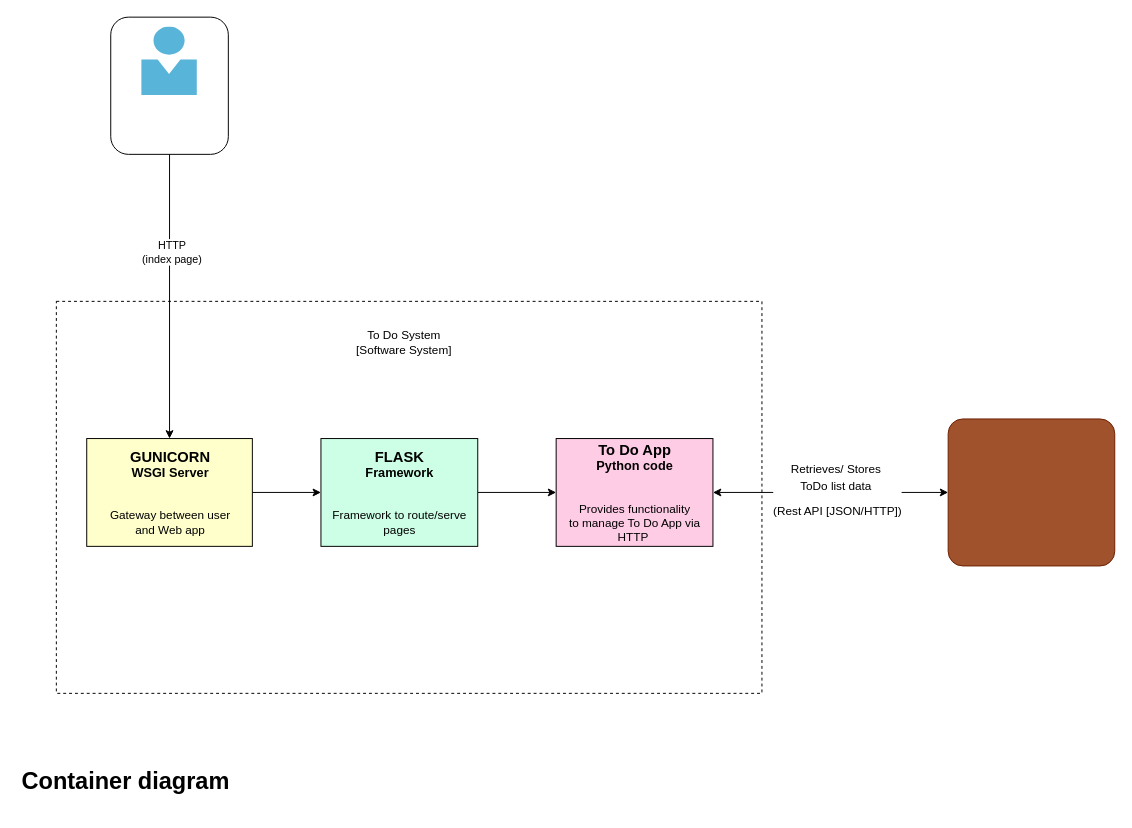
The diagram is 1132 pixels wide and 828 high, and some of its shapes have lost their labels. Here are the shapes that lost their labels. From the top down, the box of each, then its label:
(110, 16, 228, 154): User An end user using ToDo Aplication
(947, 418, 1115, 566): Trello [Software System] External Cloud (3rd Party system hosting the data)
